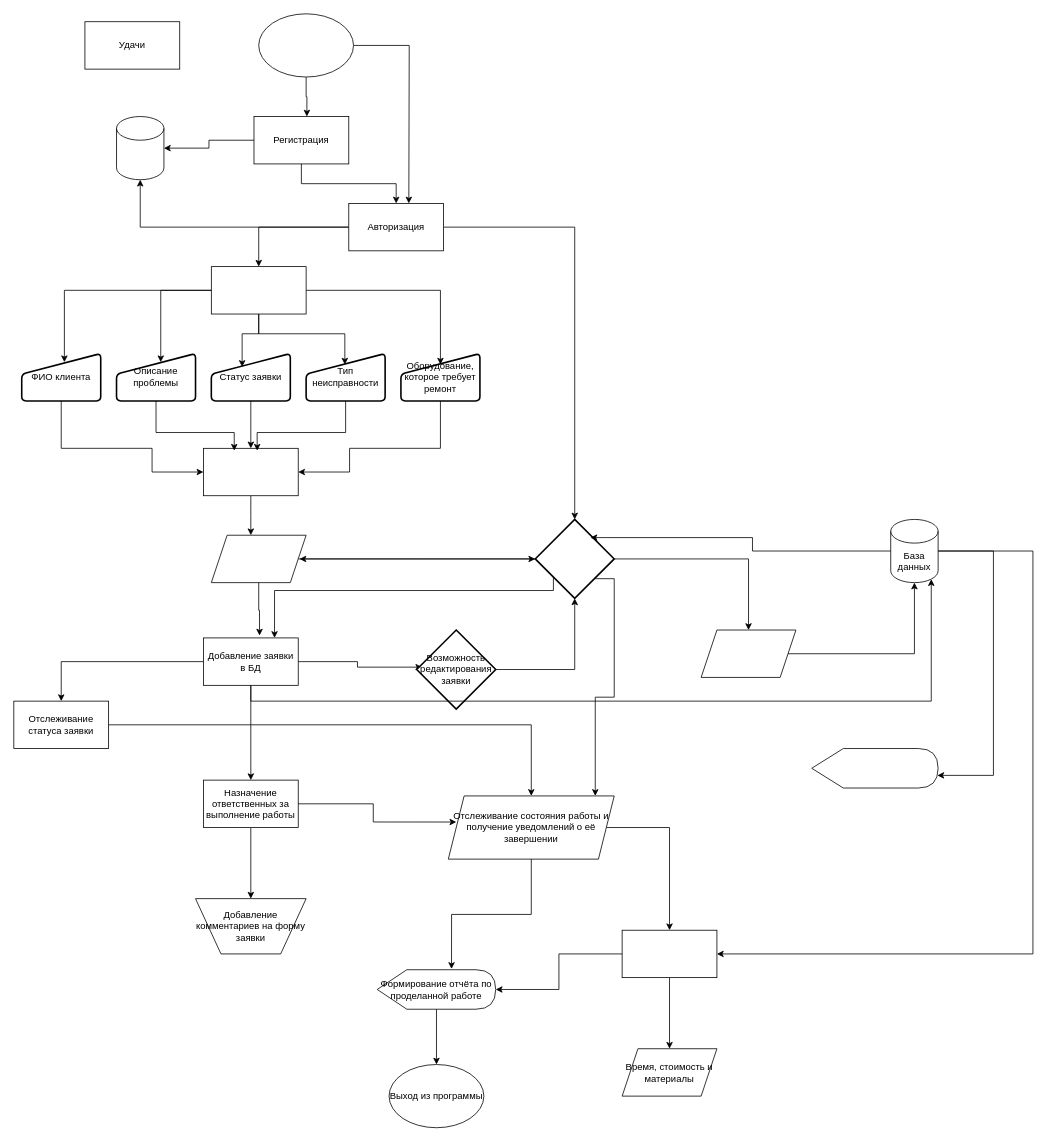
The diagram is 1053 pixels wide and 1142 high, and some of its shapes have lost their labels. The shapes that lost their labels are listed below. From the top down, each one's centre as x and y in pixels, then its label:
At (x=306, y=45): "Вход в программу".
At (x=140, y=148): "БД пользователей".
At (x=258, y=290): "Добавление заявки".
At (x=250, y=472): "Формирование заявки".
At (x=258, y=558): "Подача заявки".
At (x=574, y=558): "Модерация заявки".
At (x=748, y=653): "Добавление в базу данных".
At (x=874, y=768): "Получение отчёта по статистике работы отдела обслуживания".
At (x=669, y=953): "Затраченные ресурсы".
